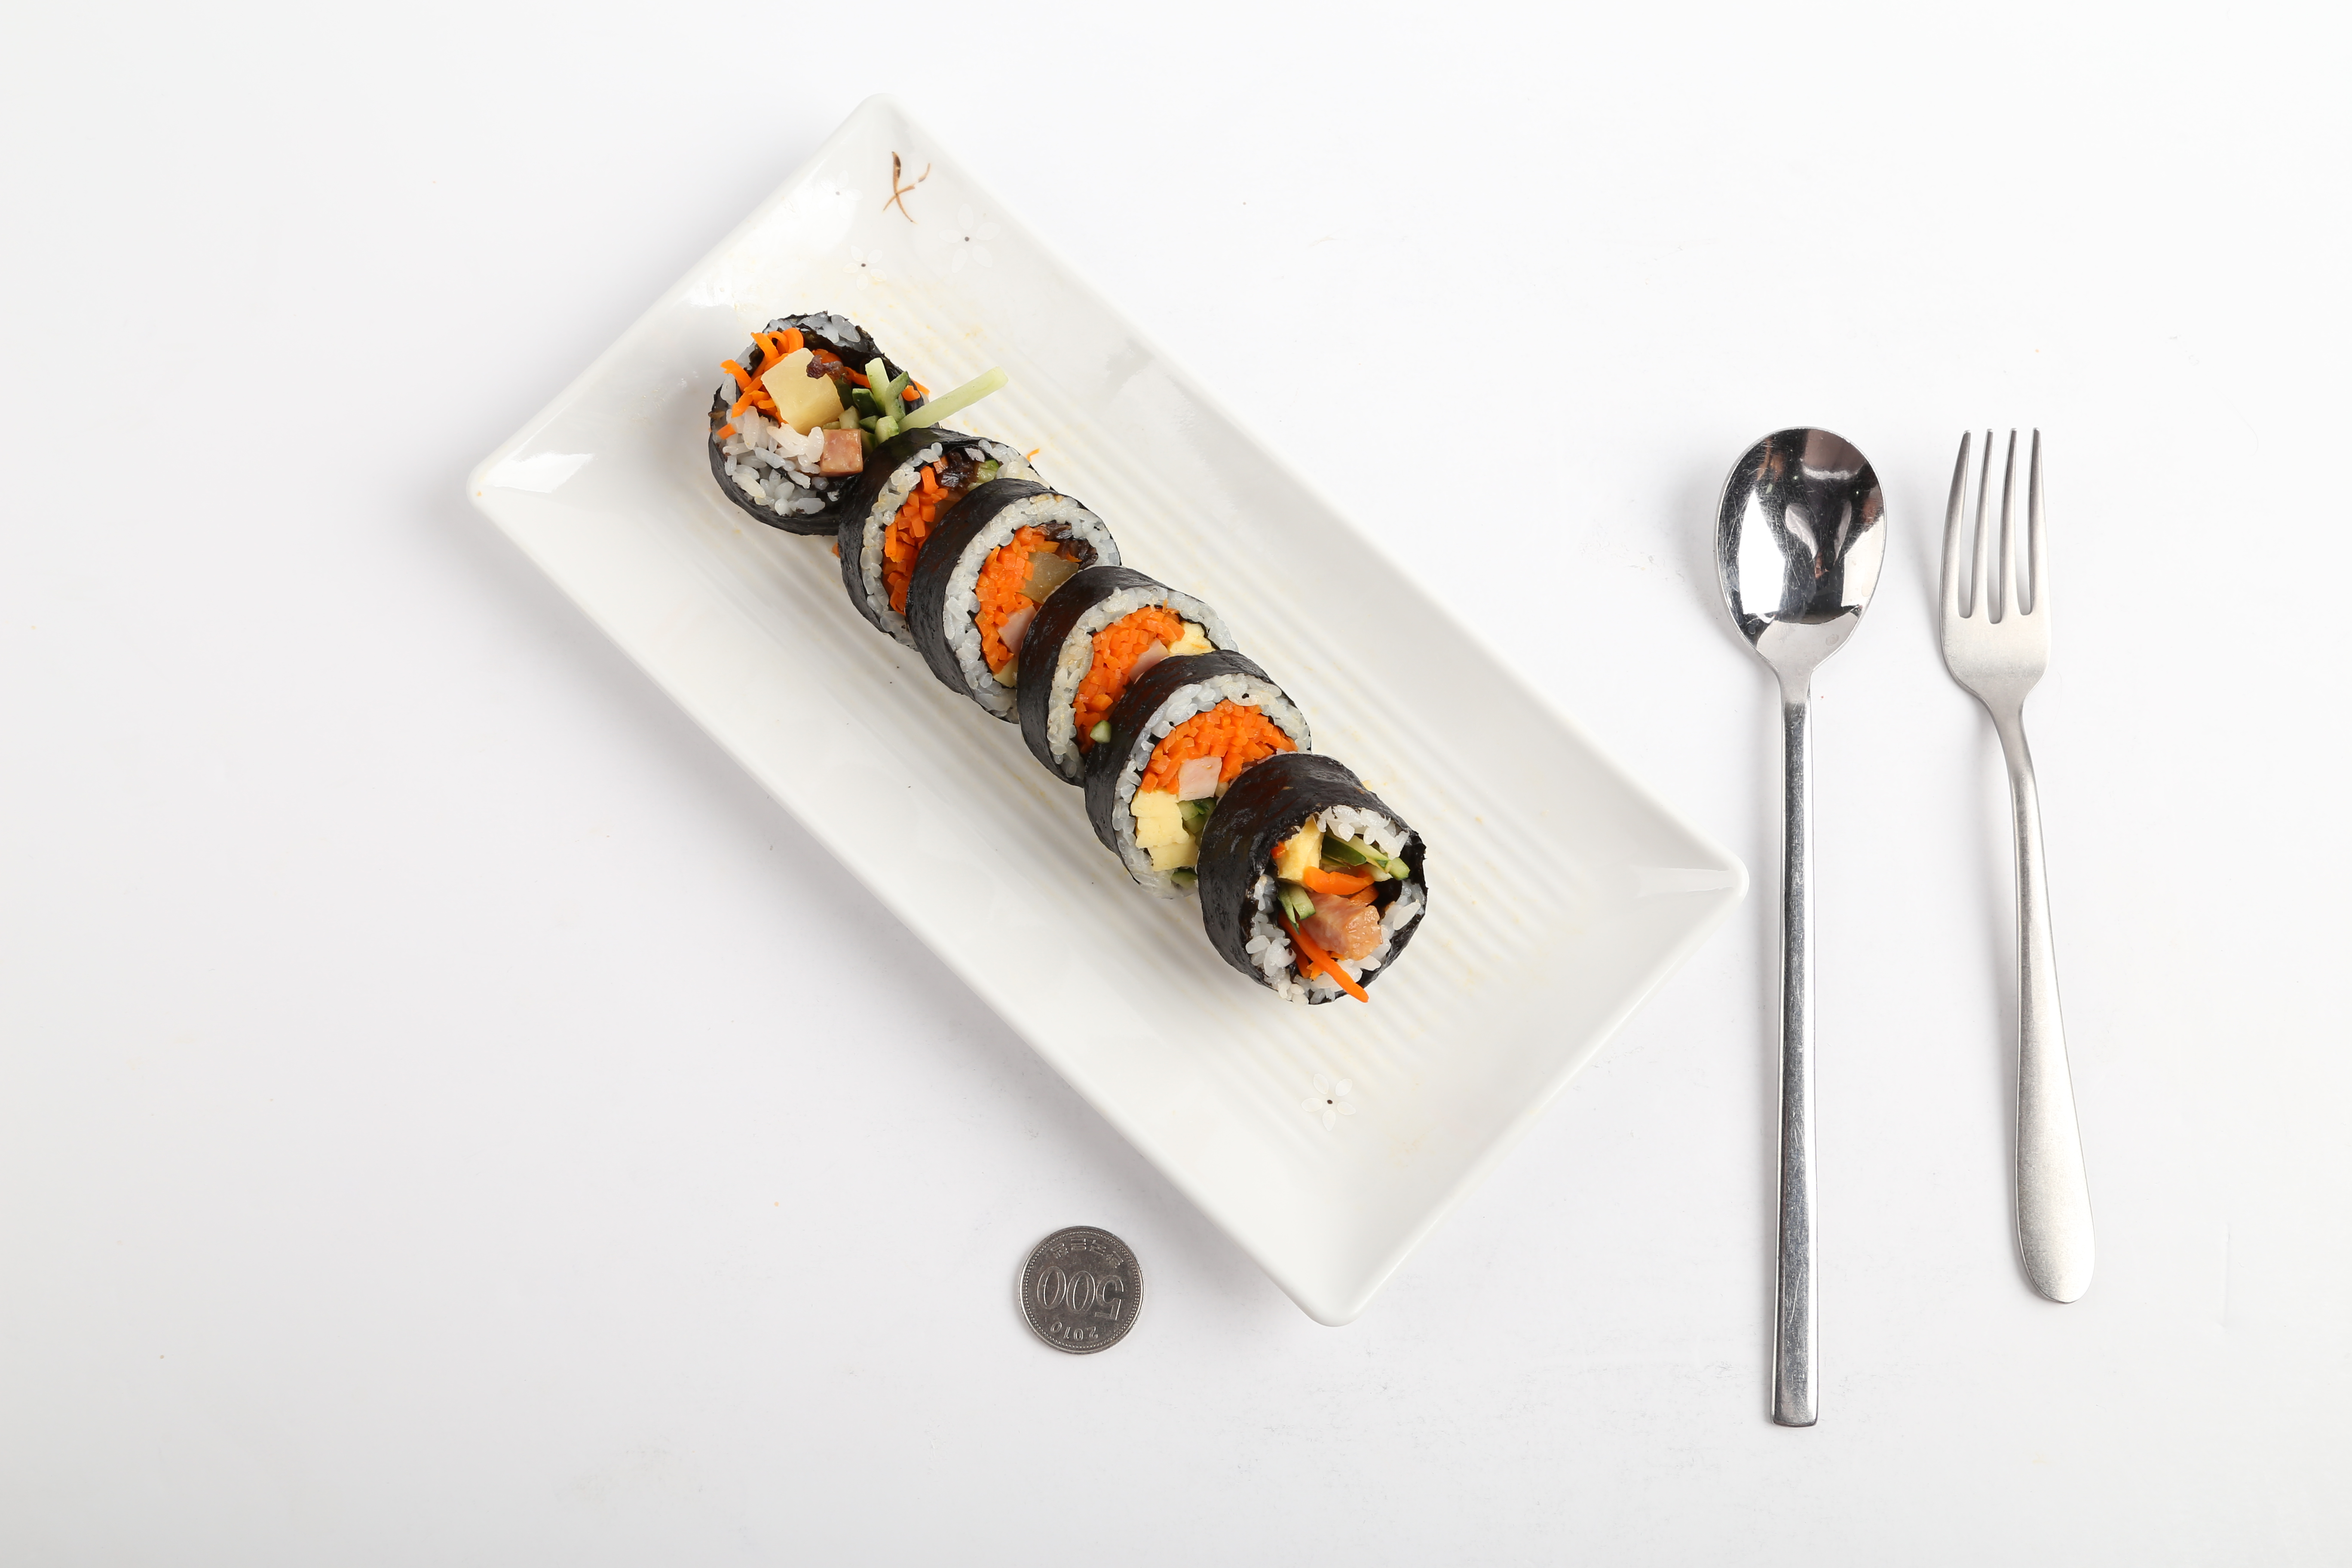dish: (472, 91, 1739, 1335)
ref_coin: (1006, 1221, 1150, 1360)
ref_fork: (1935, 420, 2058, 756)
ref_spoon: (1710, 420, 1892, 723)
김밥: (702, 308, 1433, 1006)
